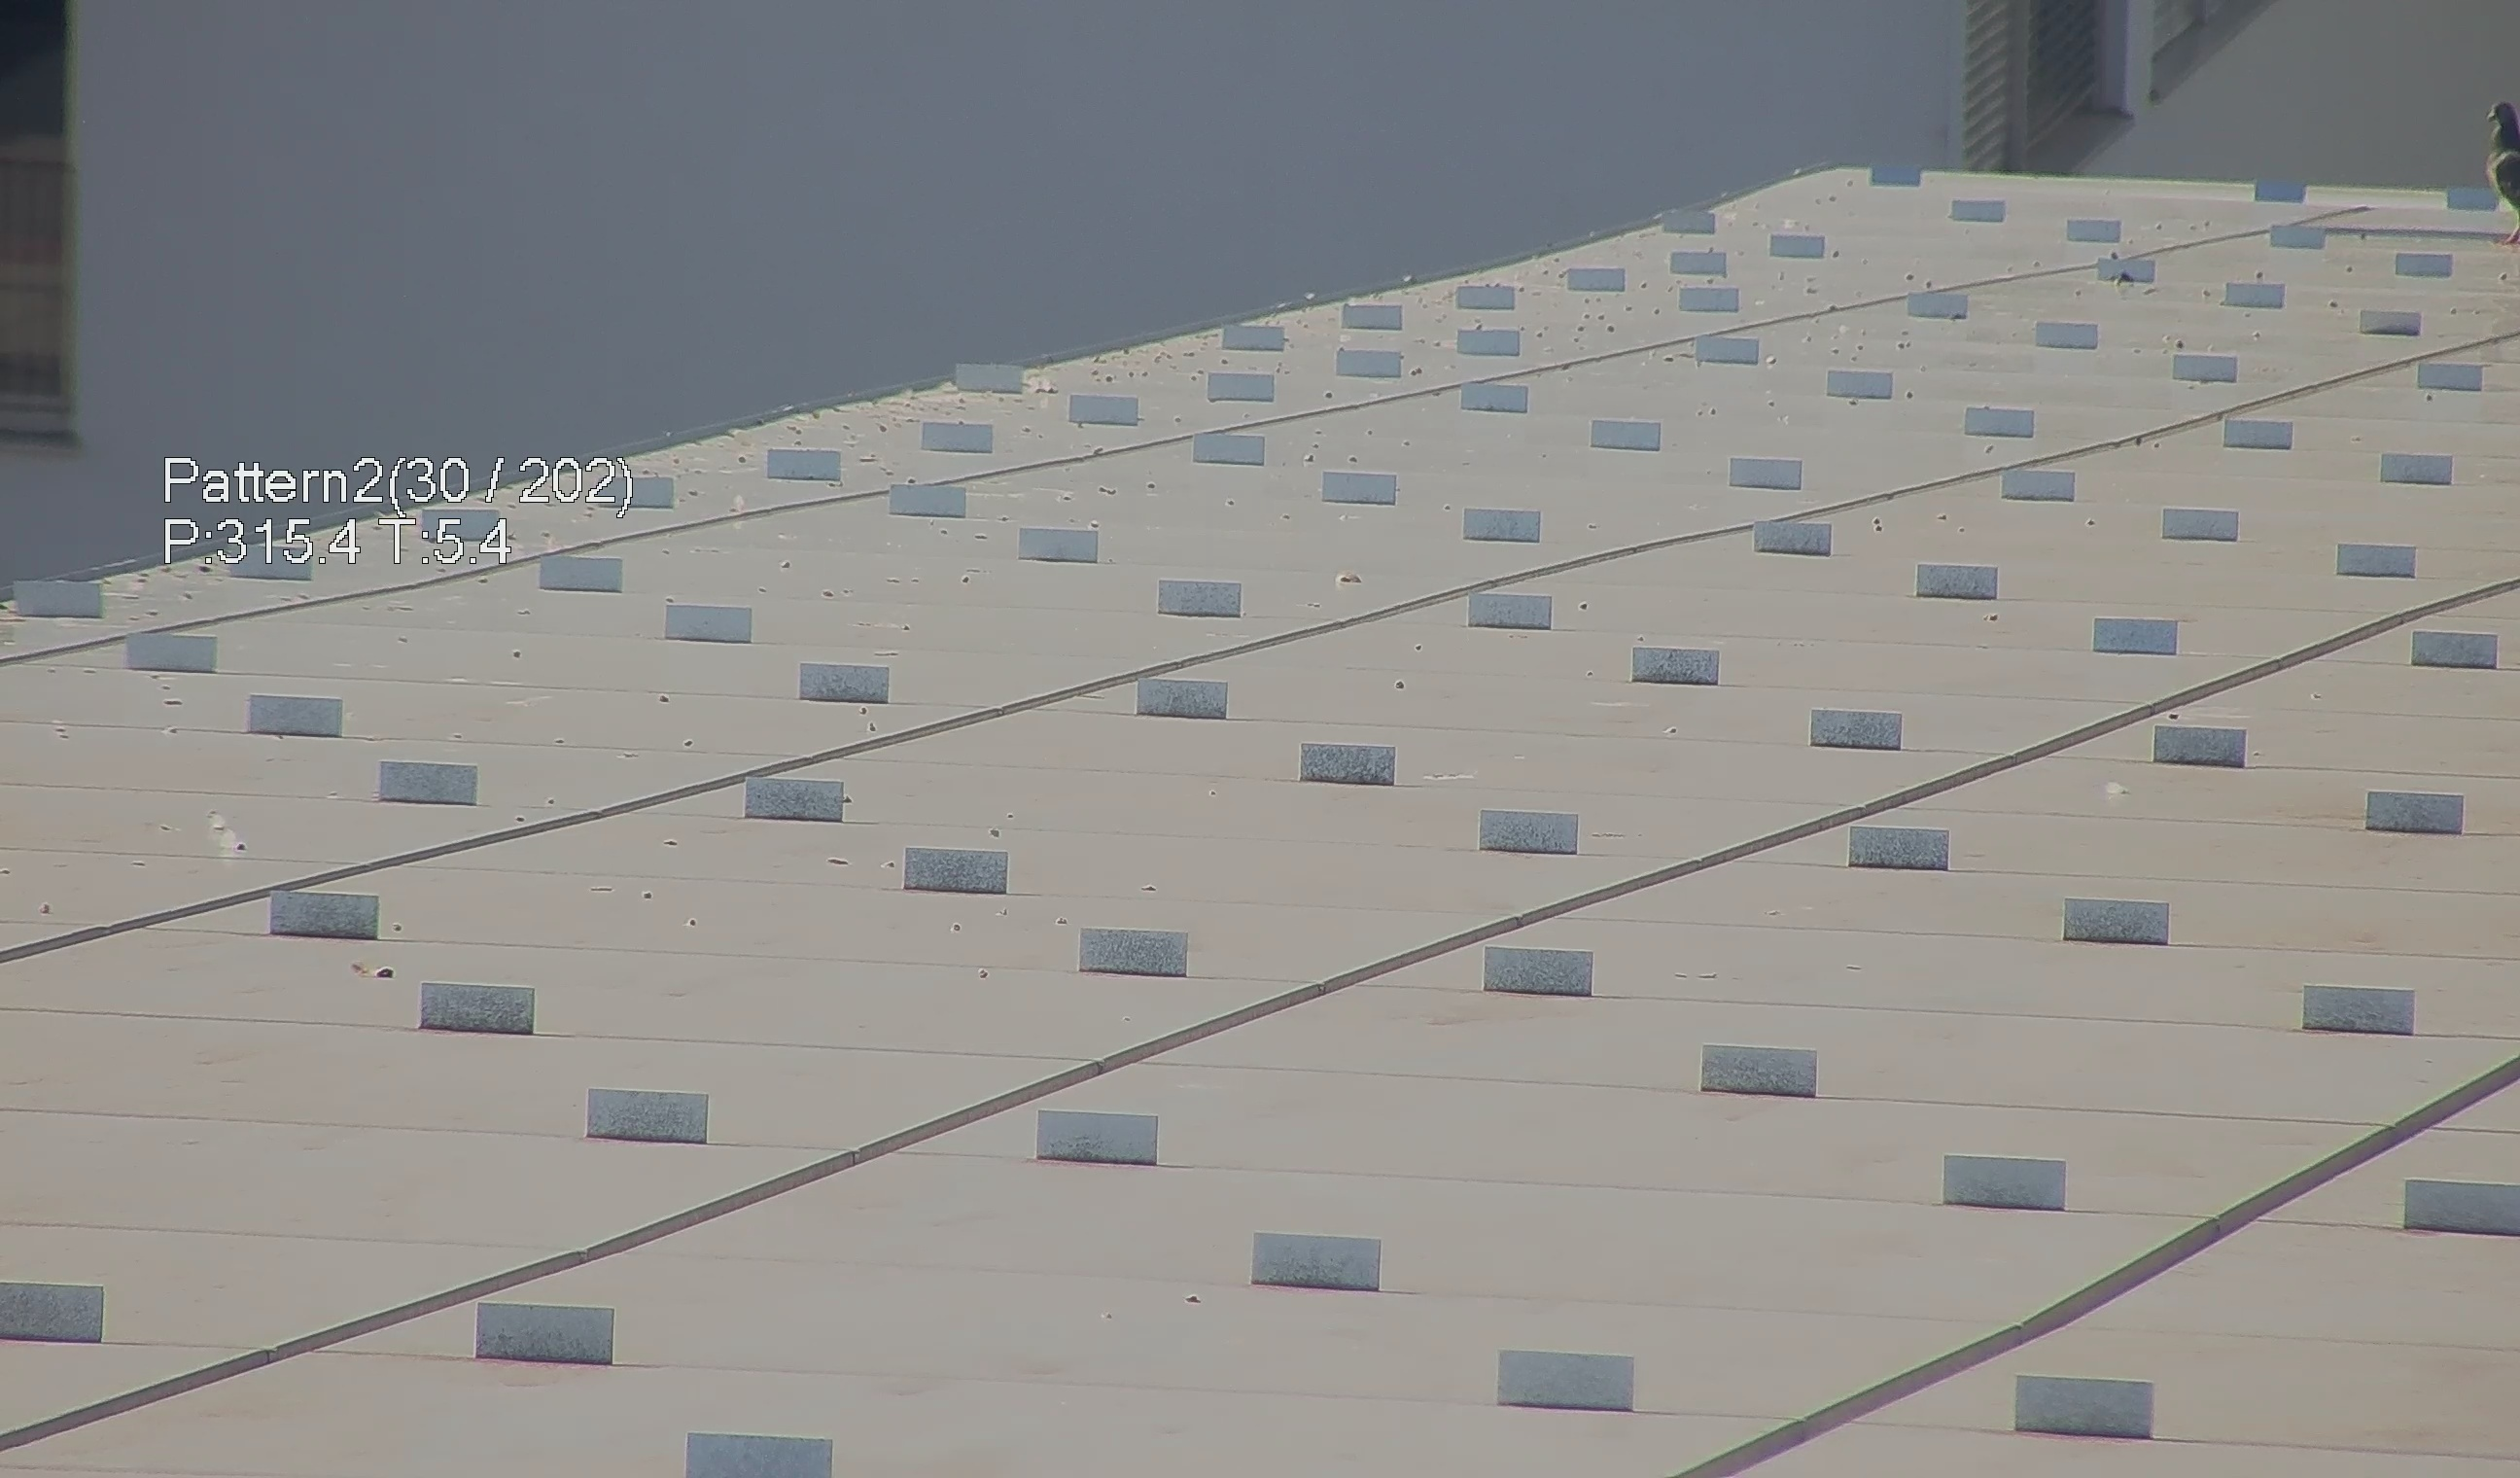Pigeon: (2488, 97, 2520, 250)
